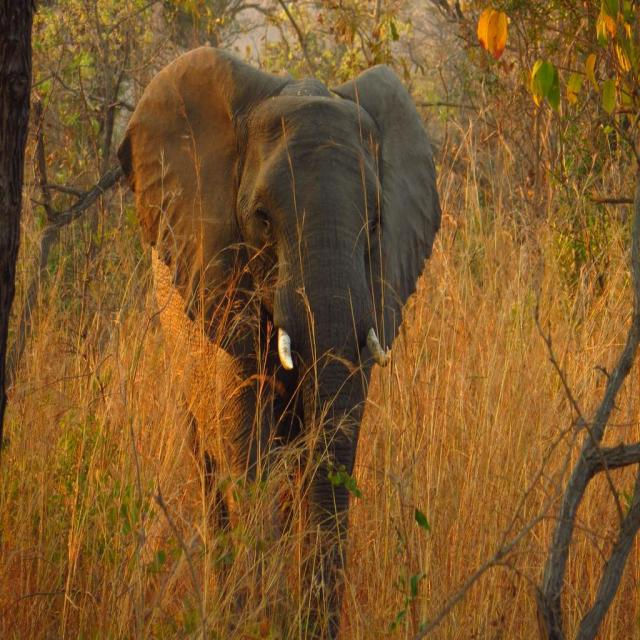elephant: (138, 36, 501, 600)
